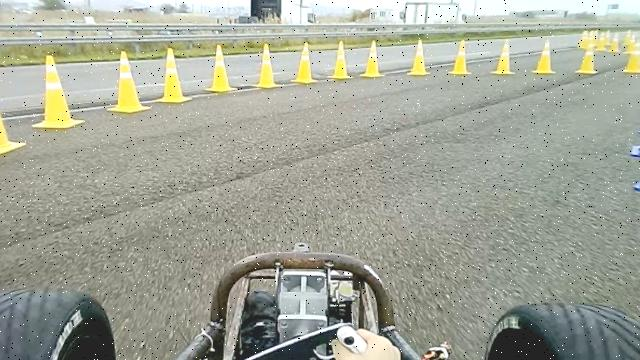yellow cone: (31, 54, 85, 129), (106, 50, 152, 113), (0, 63, 26, 155), (153, 46, 193, 103), (204, 43, 238, 93), (251, 42, 284, 89), (290, 41, 319, 84), (327, 40, 354, 80), (360, 39, 386, 78), (490, 38, 516, 75), (407, 38, 431, 76), (531, 39, 557, 74), (448, 38, 472, 75), (620, 34, 640, 74), (575, 42, 599, 74)
